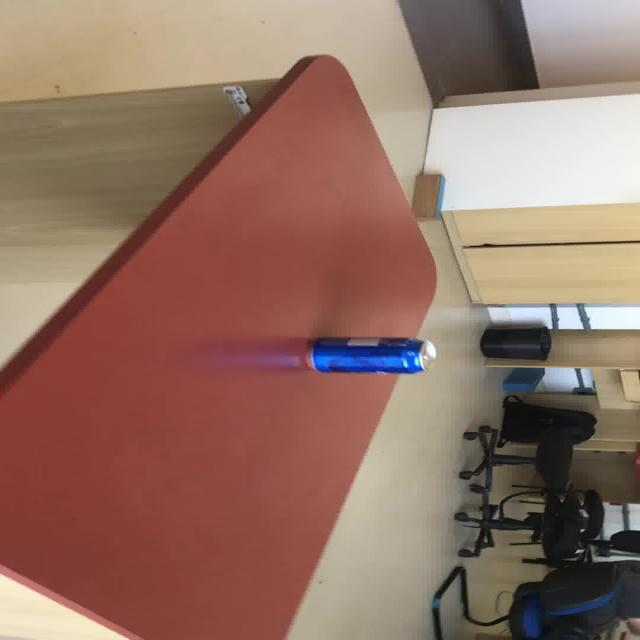tonic: (183, 335, 436, 374), (305, 336, 436, 374)
